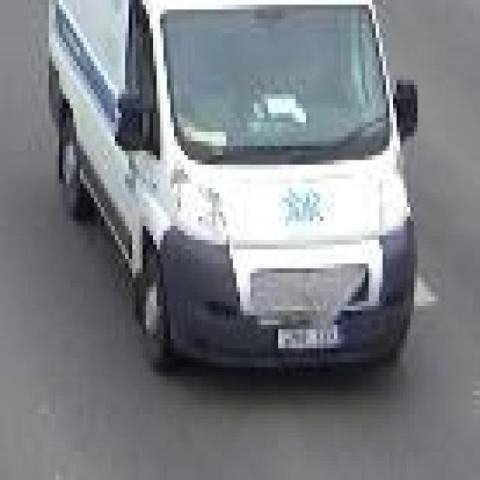van: (49, 0, 411, 376)
